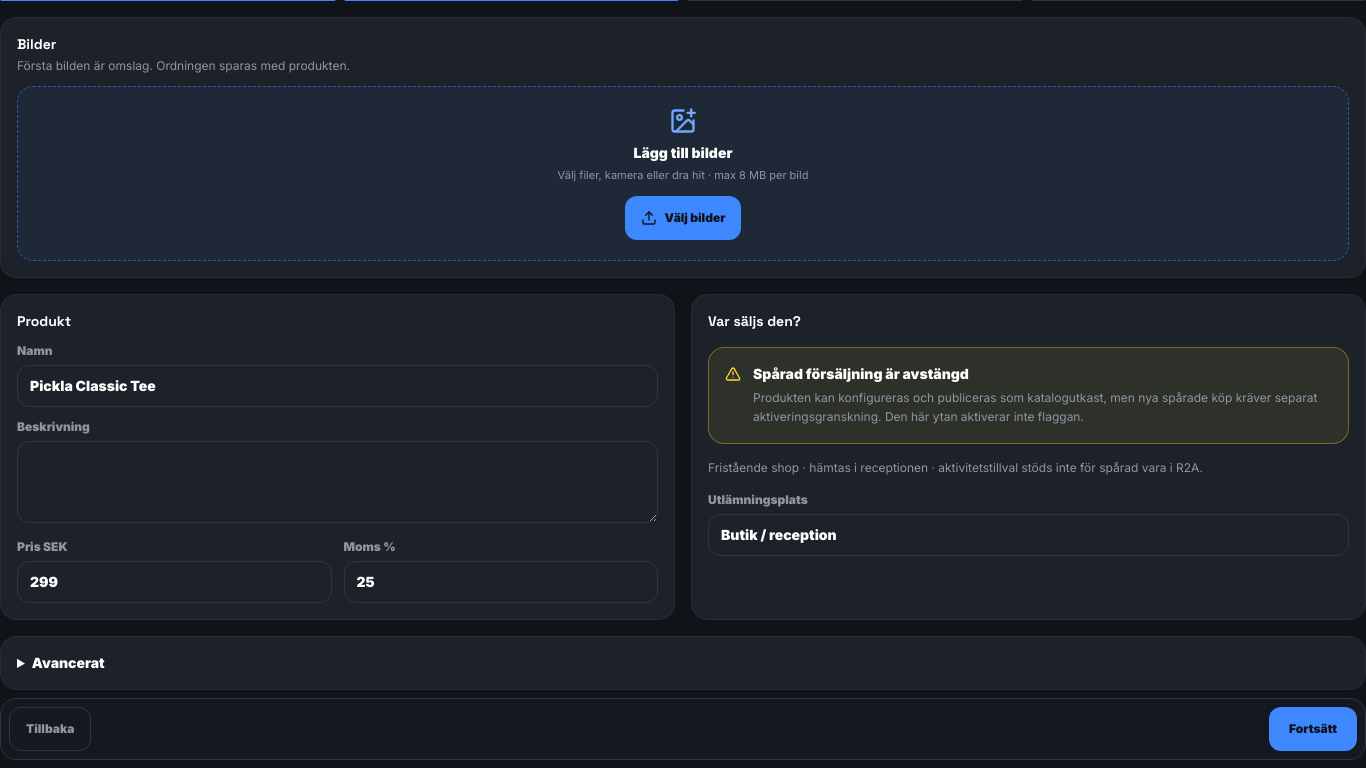
Admin OS Commerce experience › creates a tracked Tee only through canonical product, setup and variant APIs while keeping sales disabled
The image size is (1366, 768).
Earlier steps of the test are not shown.
Later steps or results of the test are not shown.
(page scrolled)
Click the button "Fortsätt".
click(1313, 728)  # box left=1269, top=706, right=1357, bottom=750
(page scrolled)
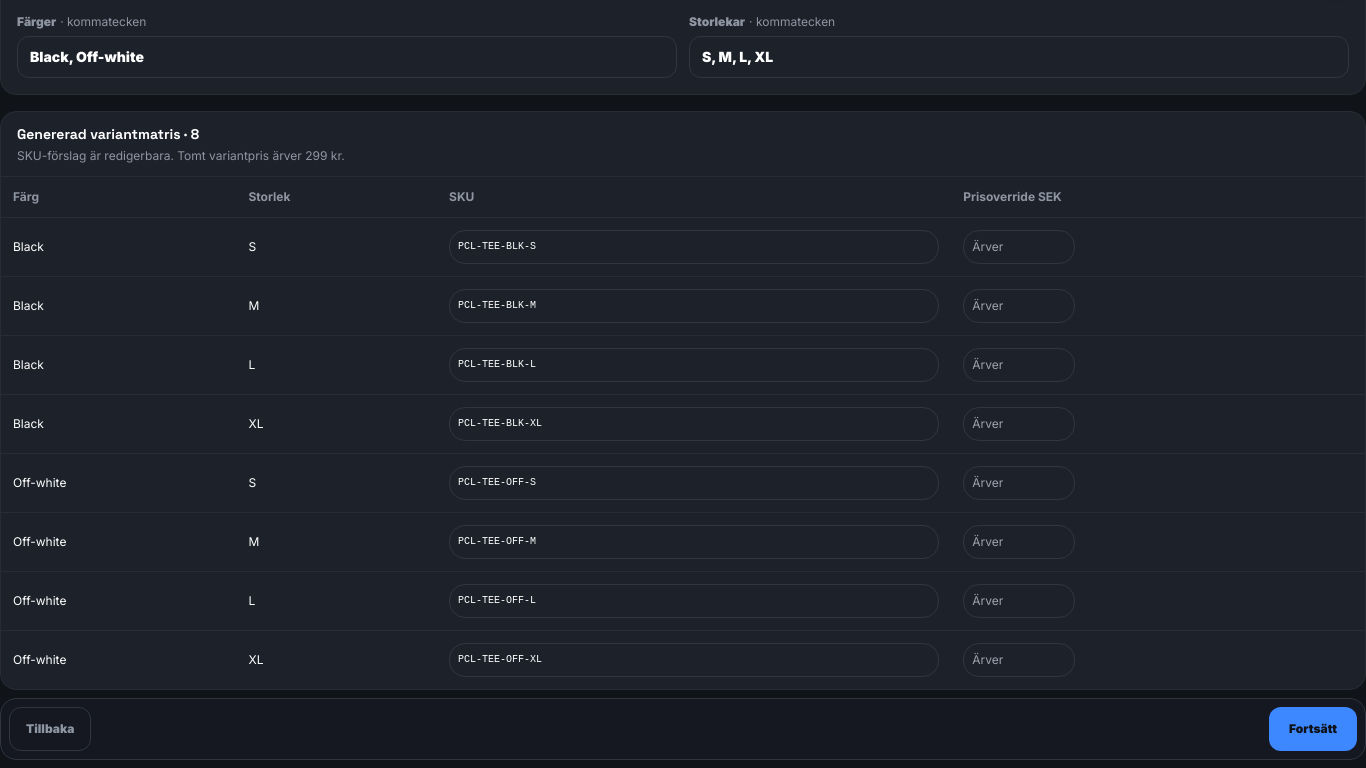
Expected: the heading "Genererad variantmatris · 8" is shown, left=17, top=125, right=199, bottom=143
Expected: the field named "SKU Black M" holds "PCL-TEE-BLK-M", left=449, top=289, right=939, bottom=323
